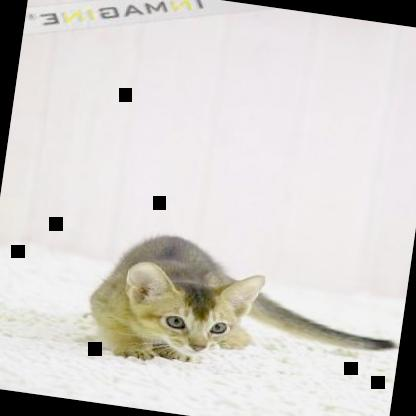cat: (82, 226, 408, 393)
